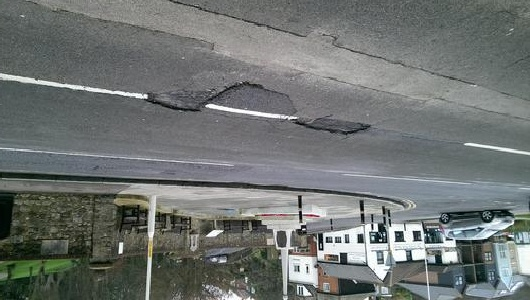pothole: (144, 89, 212, 115), (295, 115, 373, 137)
